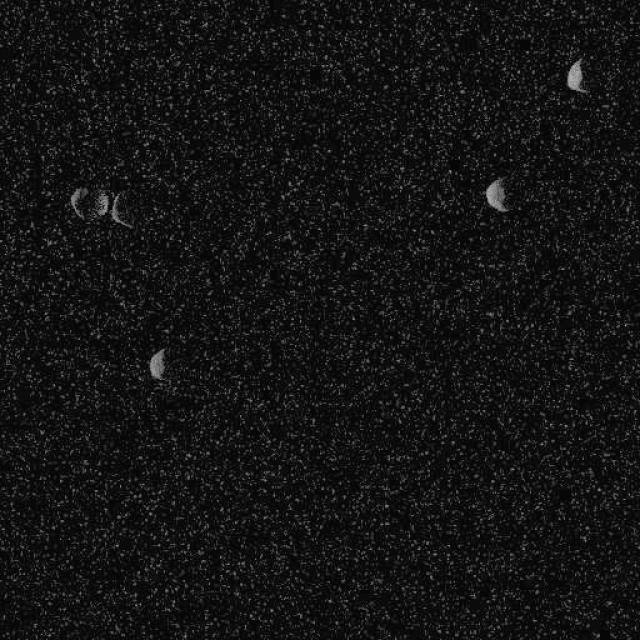D2: (68, 184, 134, 230), (484, 176, 510, 212), (565, 56, 587, 94), (148, 346, 168, 380)
